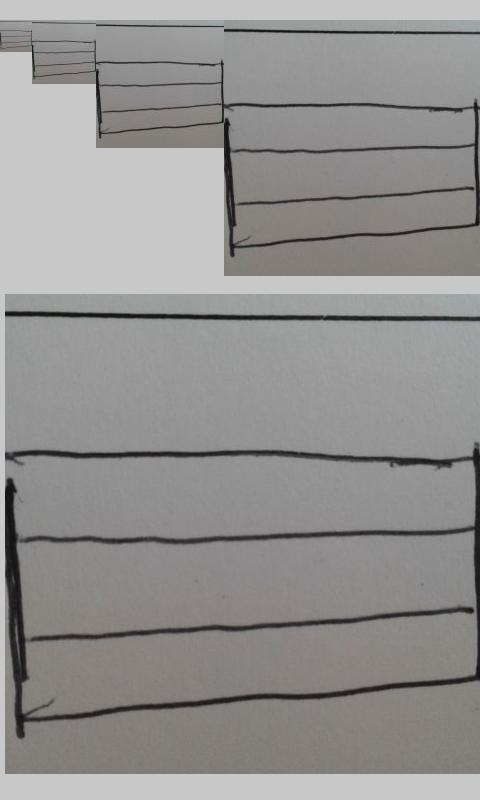list_view: (3, 439, 479, 730), (224, 102, 480, 250), (96, 61, 223, 135), (32, 40, 96, 78), (1, 29, 32, 50)
